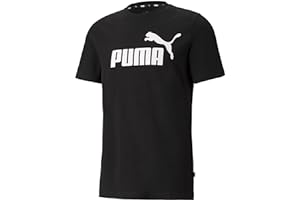design: (108, 29, 183, 69)
